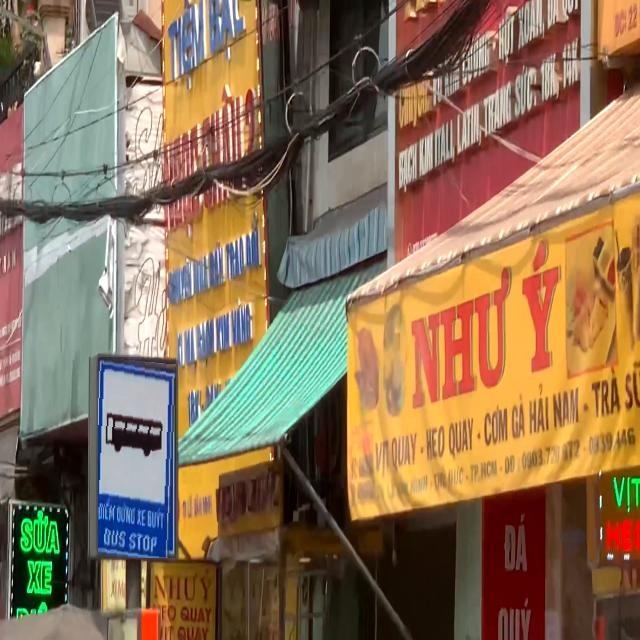bien_chi_dan: (98, 357, 176, 558)
